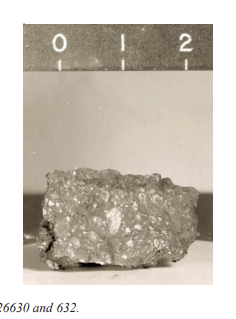Breccia: (37, 157, 202, 273)
